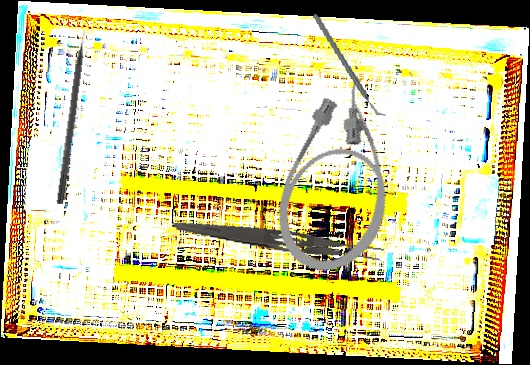Cannula: (262, 65, 423, 285)
Chopper: (313, 5, 386, 127)
Dressing Forceps: (171, 217, 387, 266)
Pusher: (55, 17, 93, 205)
